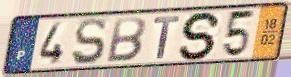4: (37, 21, 66, 66)
5: (222, 9, 256, 59)
B: (104, 16, 148, 64)
S: (177, 10, 224, 62), (70, 16, 108, 67)
T: (152, 14, 181, 60)
